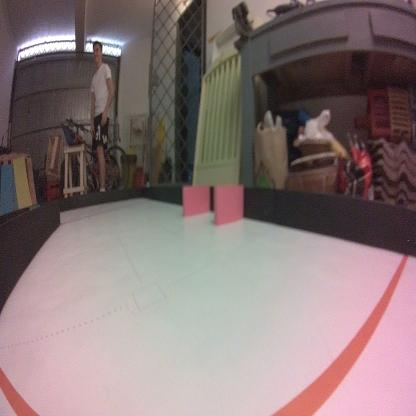magenta: (213, 184, 243, 224), (183, 186, 210, 216)
